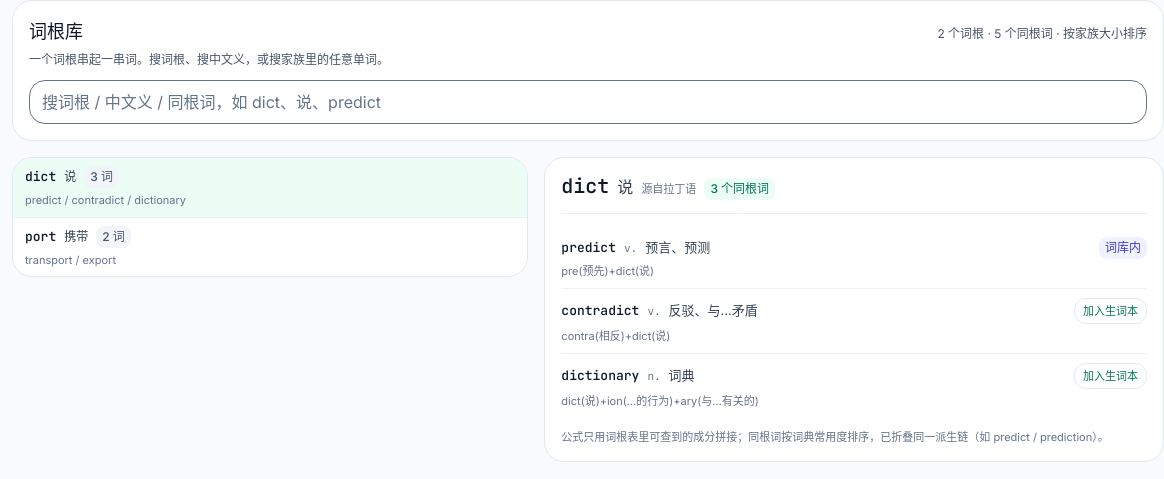
词根库 › 家族成员可加入生词本，词库内词不重复加入
Check: the text "词库内" is shown, box [1099, 237, 1147, 259]
Click the button with aria-label "加入生词本 contradict": (1110,311) [1074, 298, 1147, 324]
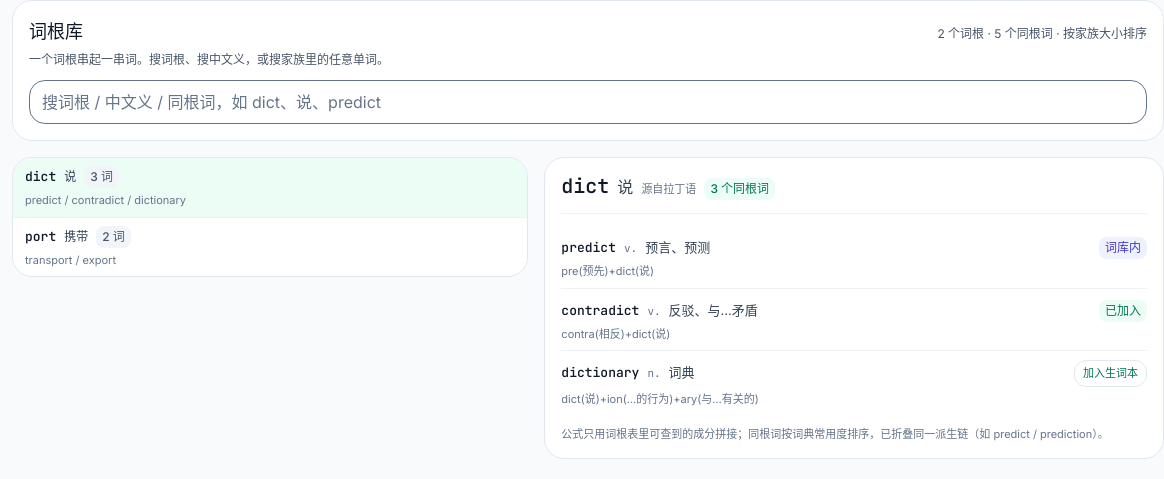
Check: the text "已加入" is shown, box [1099, 300, 1147, 322]
